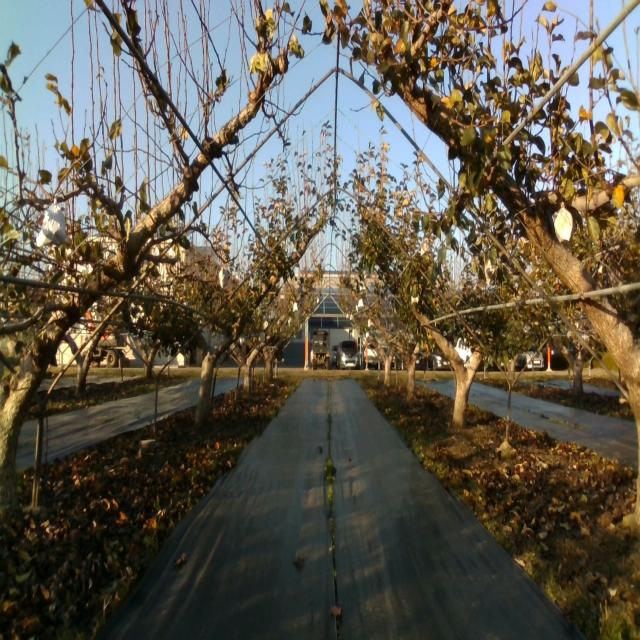pearbags: (36, 202, 69, 246), (554, 202, 574, 243), (420, 235, 433, 260), (484, 259, 496, 286), (218, 265, 228, 289)
